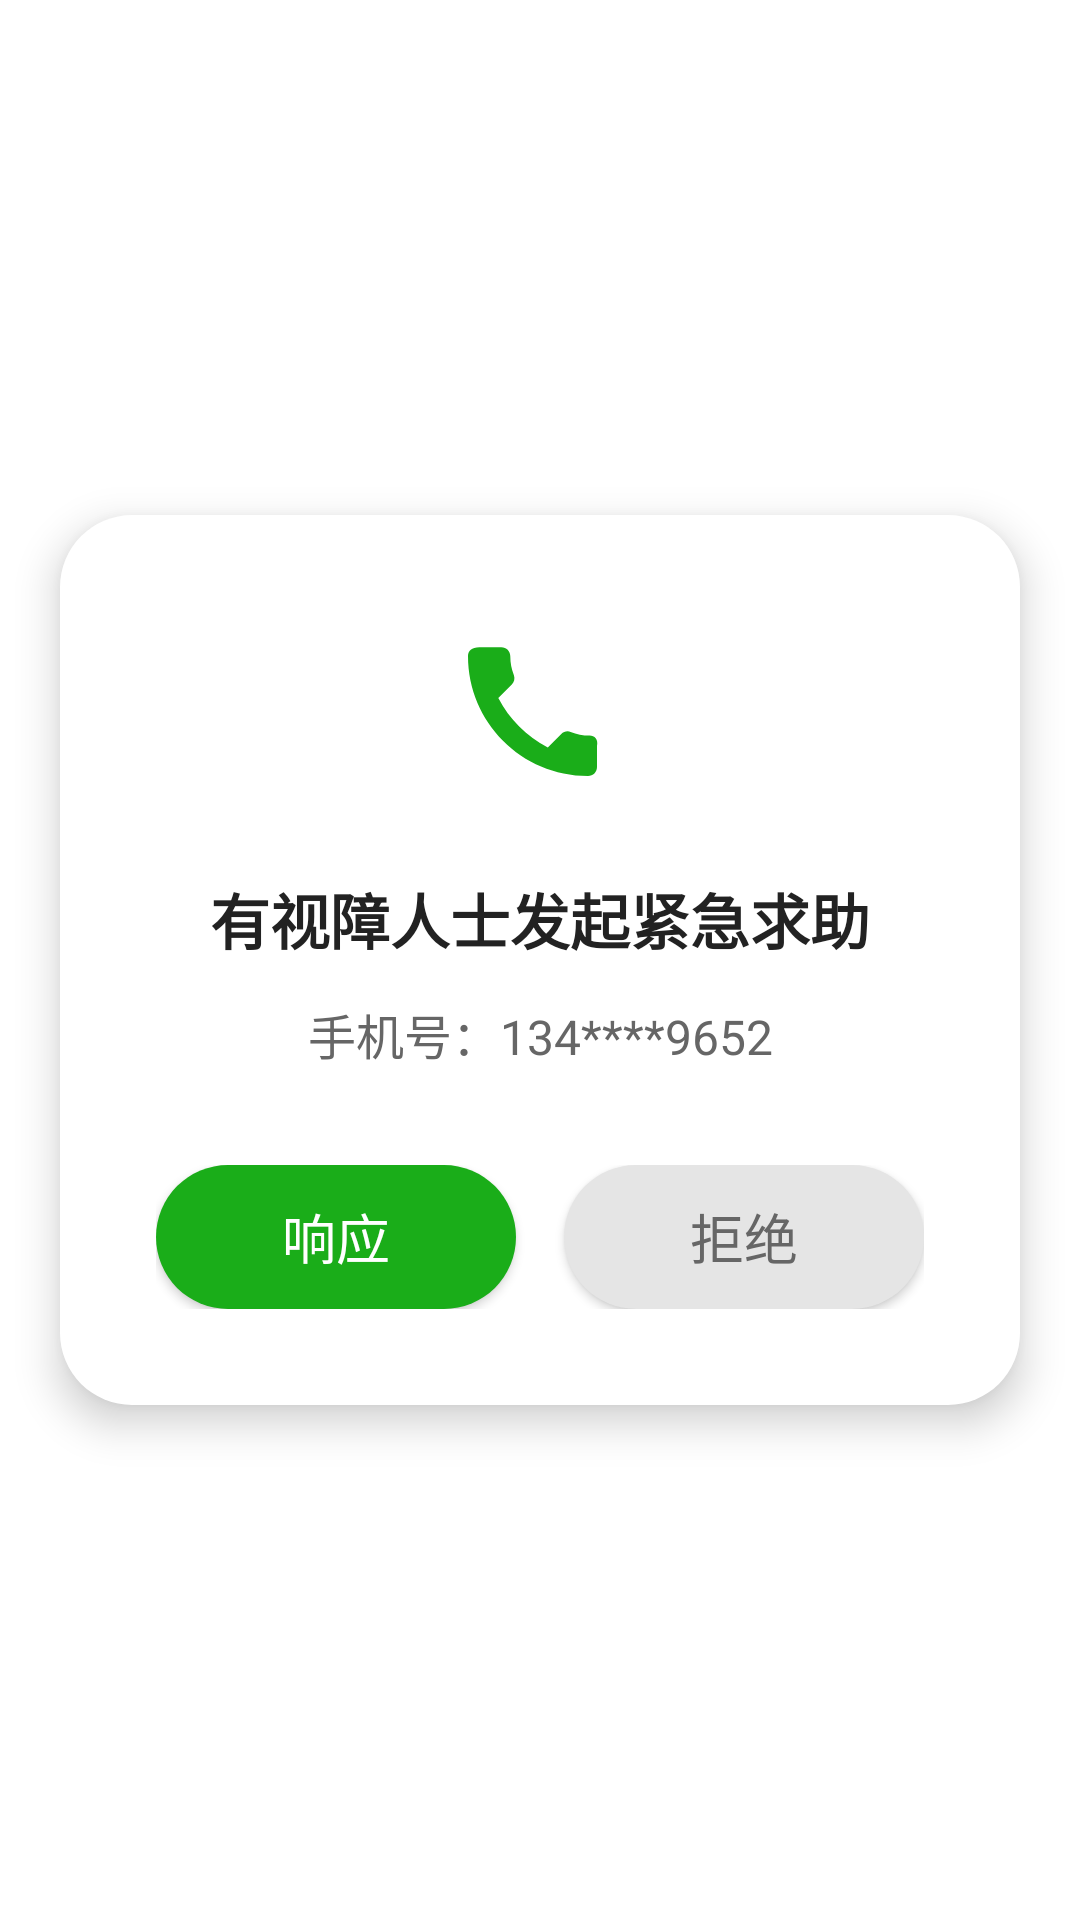

Where icons sit on this 1080w x 1920h app screen, as (x1, y1, x2, y2):
call incoming: (468, 647, 598, 776)
